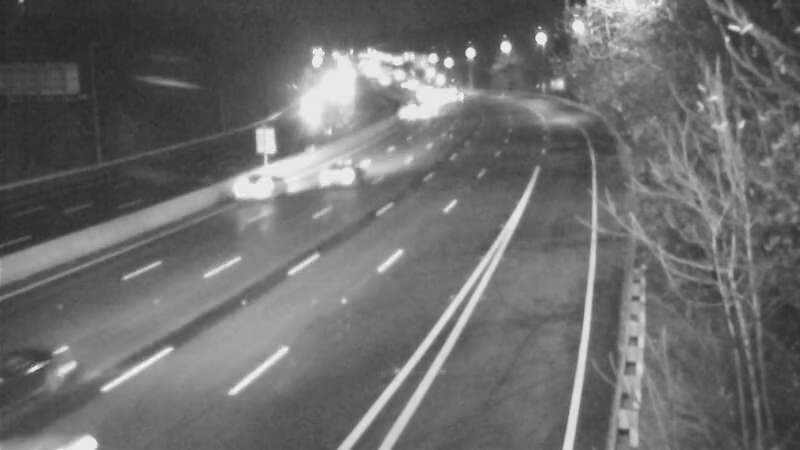vehicle: (1, 334, 90, 444), (301, 131, 381, 211), (217, 146, 297, 226), (396, 85, 446, 135), (285, 85, 335, 135)
